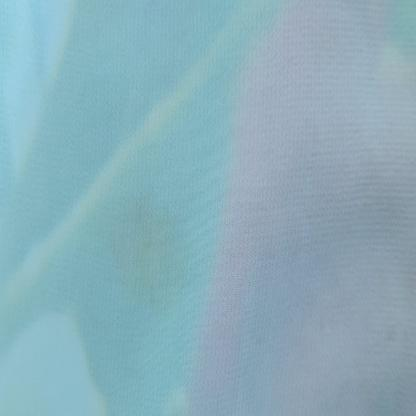spot: (111, 206, 198, 294)
